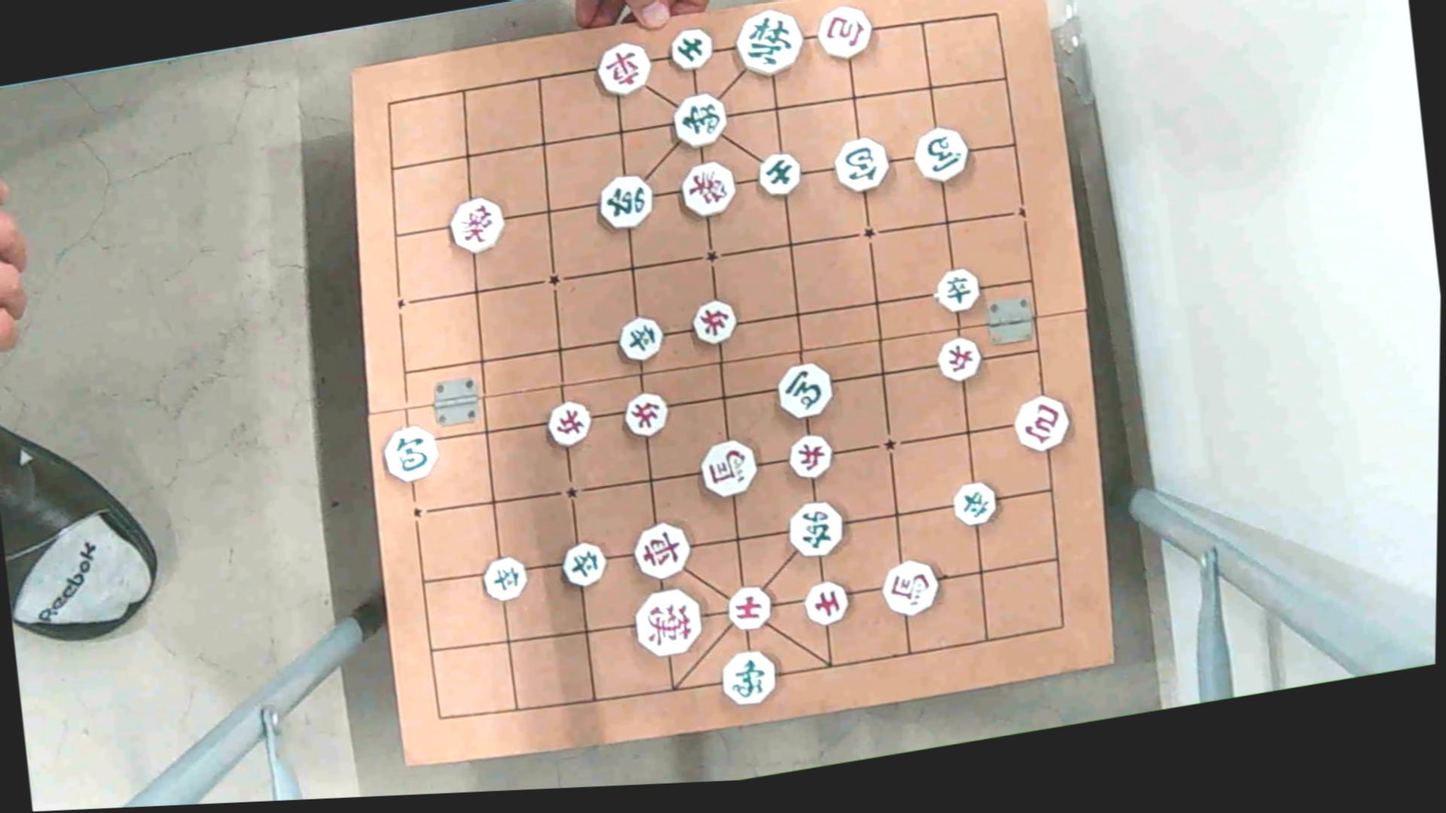cha_green: (784, 497, 850, 557), (593, 175, 657, 230)
cha_red: (630, 522, 695, 582), (591, 41, 655, 99)
jol_green: (559, 539, 610, 589), (615, 315, 667, 362), (933, 266, 984, 312), (950, 481, 1002, 525), (480, 554, 528, 600)
jol_red: (932, 333, 987, 385), (543, 399, 595, 448), (785, 430, 837, 477), (621, 390, 673, 436), (689, 300, 741, 346)
ma_green: (772, 361, 839, 420), (910, 126, 971, 183)
ma_red: (697, 438, 758, 501), (880, 559, 941, 616)
po_green: (832, 135, 895, 193), (383, 423, 444, 482)
po_red: (1011, 394, 1075, 451), (813, 4, 875, 60)
sa_green: (754, 149, 806, 196), (669, 26, 718, 71)
sa_red: (723, 585, 776, 633), (801, 580, 853, 626)
sang_green: (670, 91, 732, 148), (719, 650, 778, 706)
sang_red: (677, 160, 741, 219), (449, 196, 507, 257)
wang_green: (734, 8, 808, 77)
wang_red: (630, 586, 707, 658)
